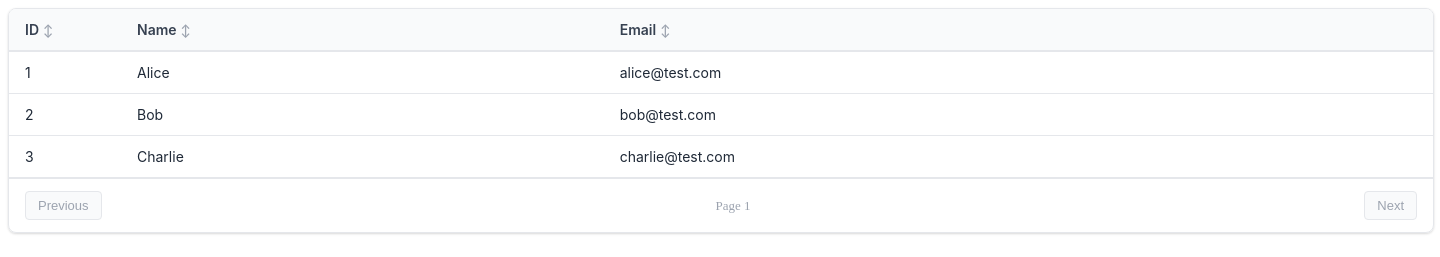
Test: BifrostTable › editable › discards the edit on Escape without writing
Double-click the text "Alice": coordinates (153, 72) [121,51,604,94]
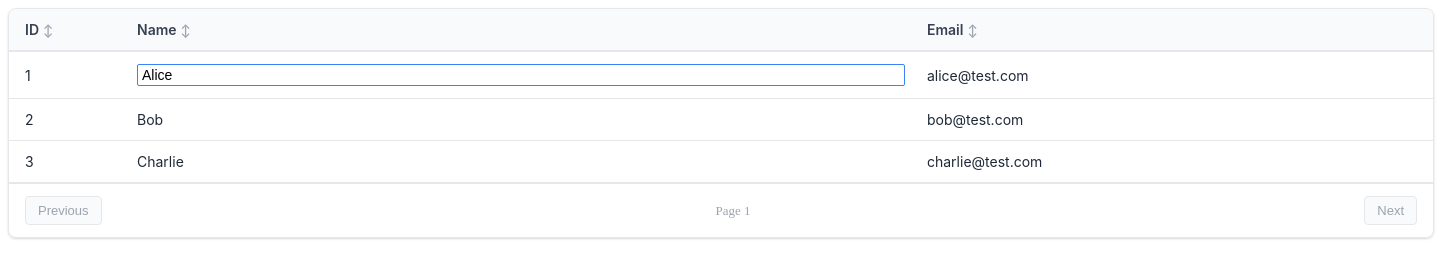
Replace the text in the field with test id "edit-input" with "Alicia": coordinates (521, 75) [137,64,905,86]
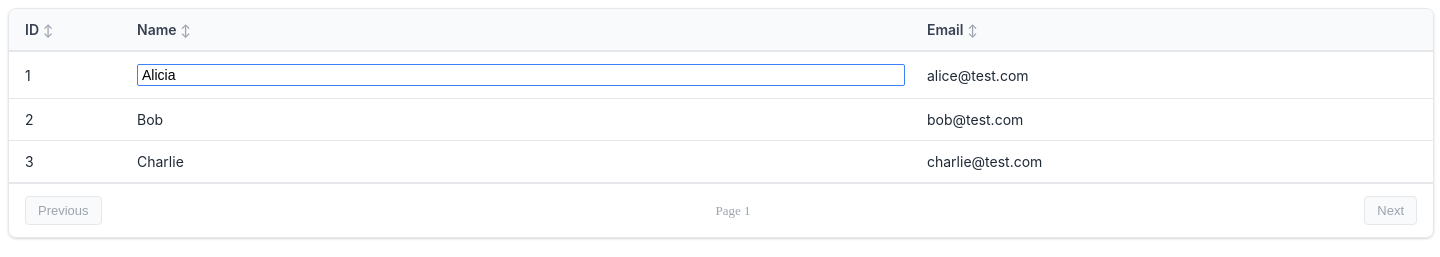
Press Escape in the field with test id "edit-input", box [137,64,905,86]
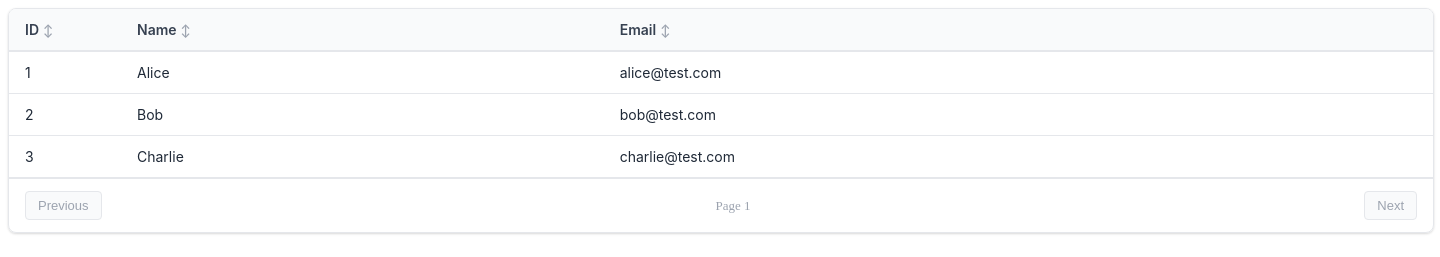
Expected: the field with test id "edit-input" is gone
Expected: the text "Alice" is shown, [121,51,604,94]
